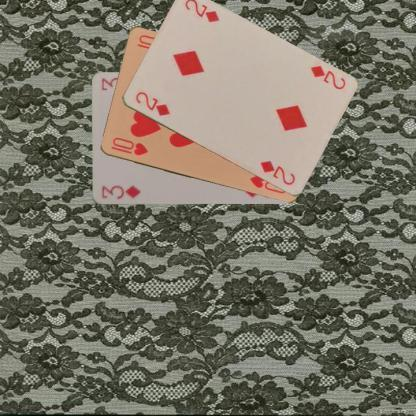10h: (108, 135, 149, 157)
2d: (307, 63, 347, 92), (132, 89, 170, 118)
3d: (100, 183, 142, 201)
